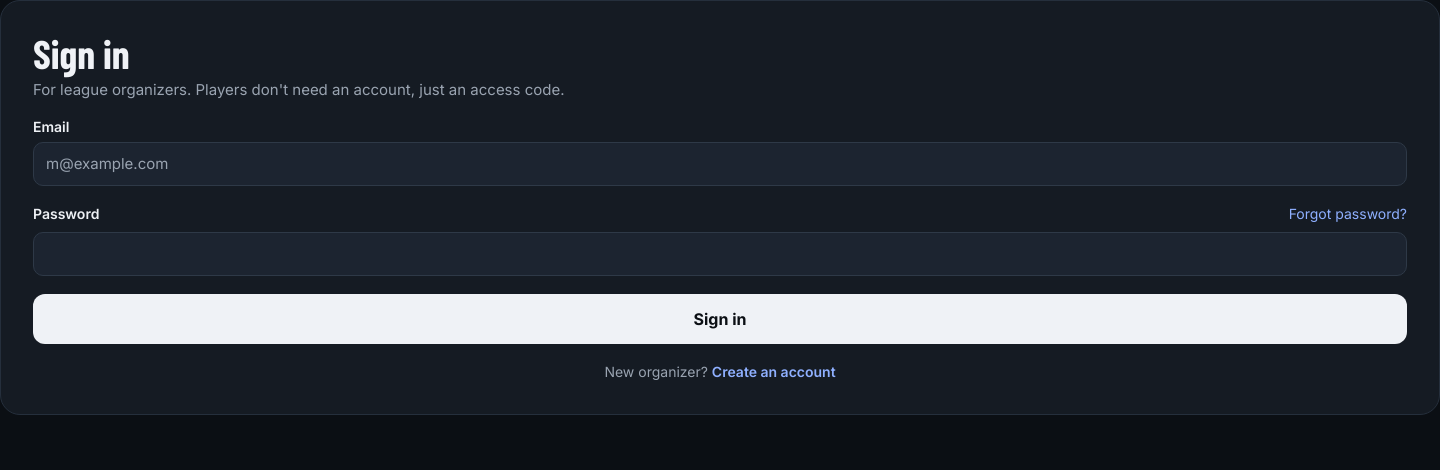
LoginForm › displays error message on login failure
Type "test@example.com" into the field labelled "Email" at (720, 164), box [33,142,1407,186]
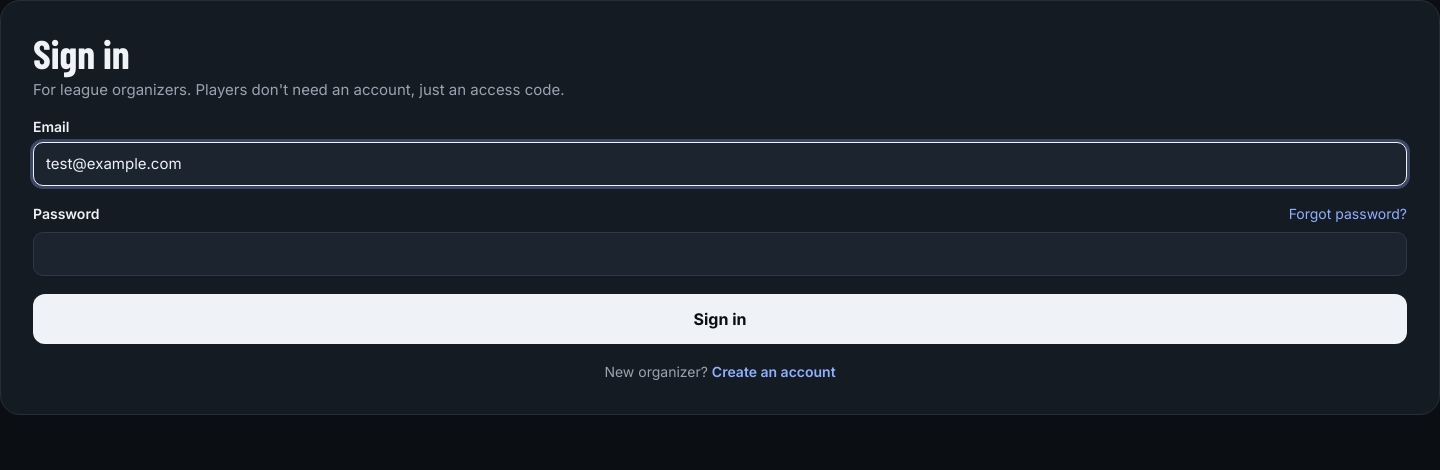
Type "wrongpassword" into the password field labelled "Password" at (720, 254), box [33,232,1407,276]
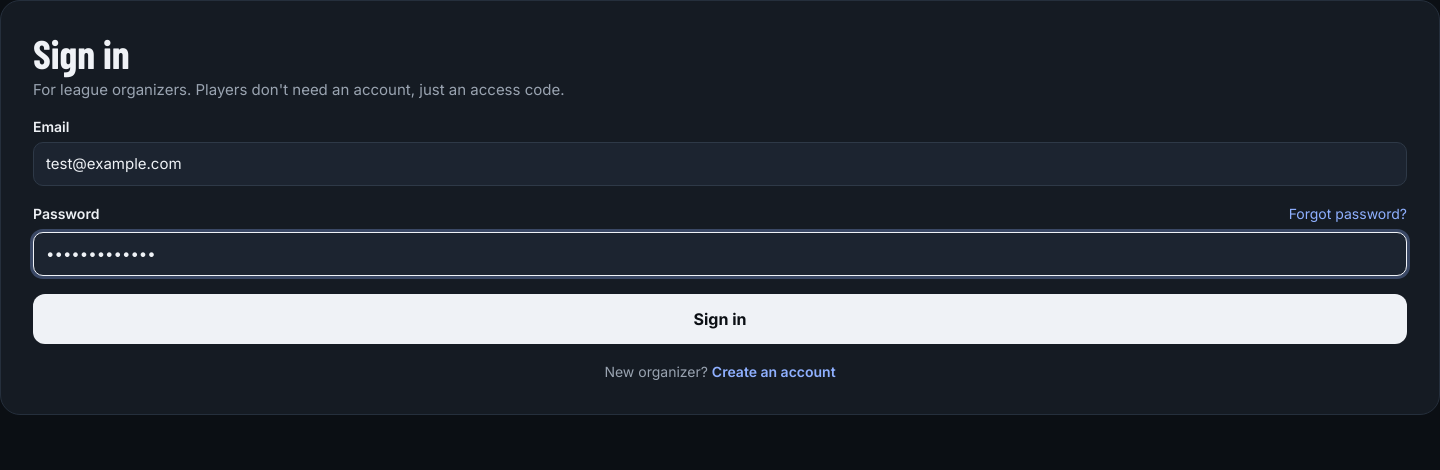
Click the button "Sign in" at (720, 318), box [33,294,1407,344]
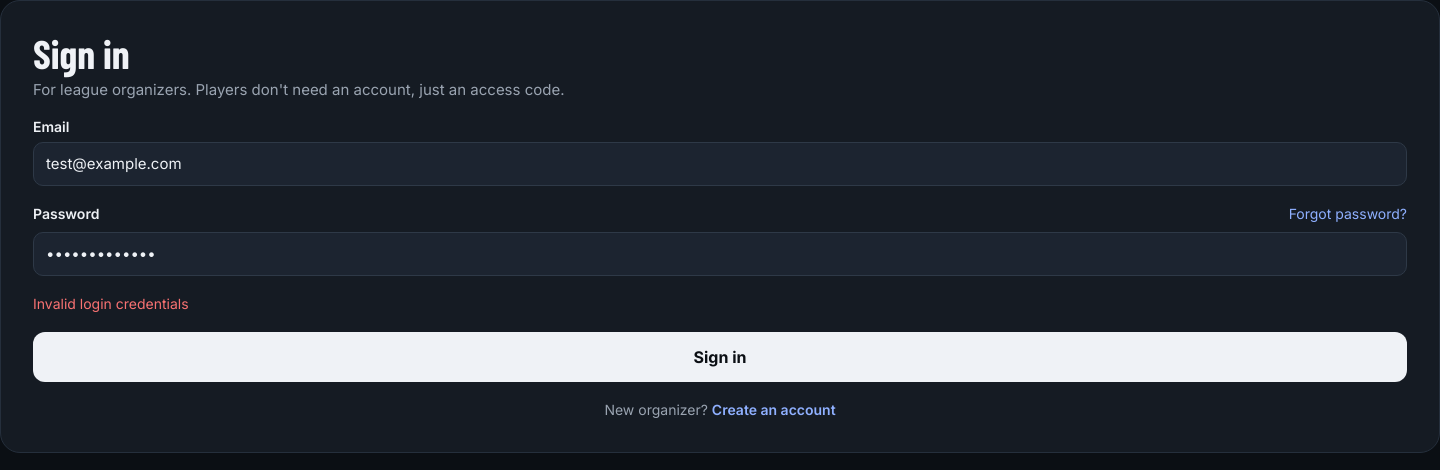
Expected: the text "Invalid login credentials" is shown, [33,294,189,312]
